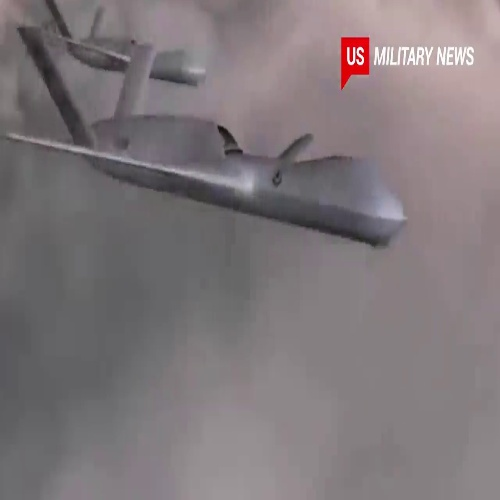uav717: (7, 25, 410, 257)
